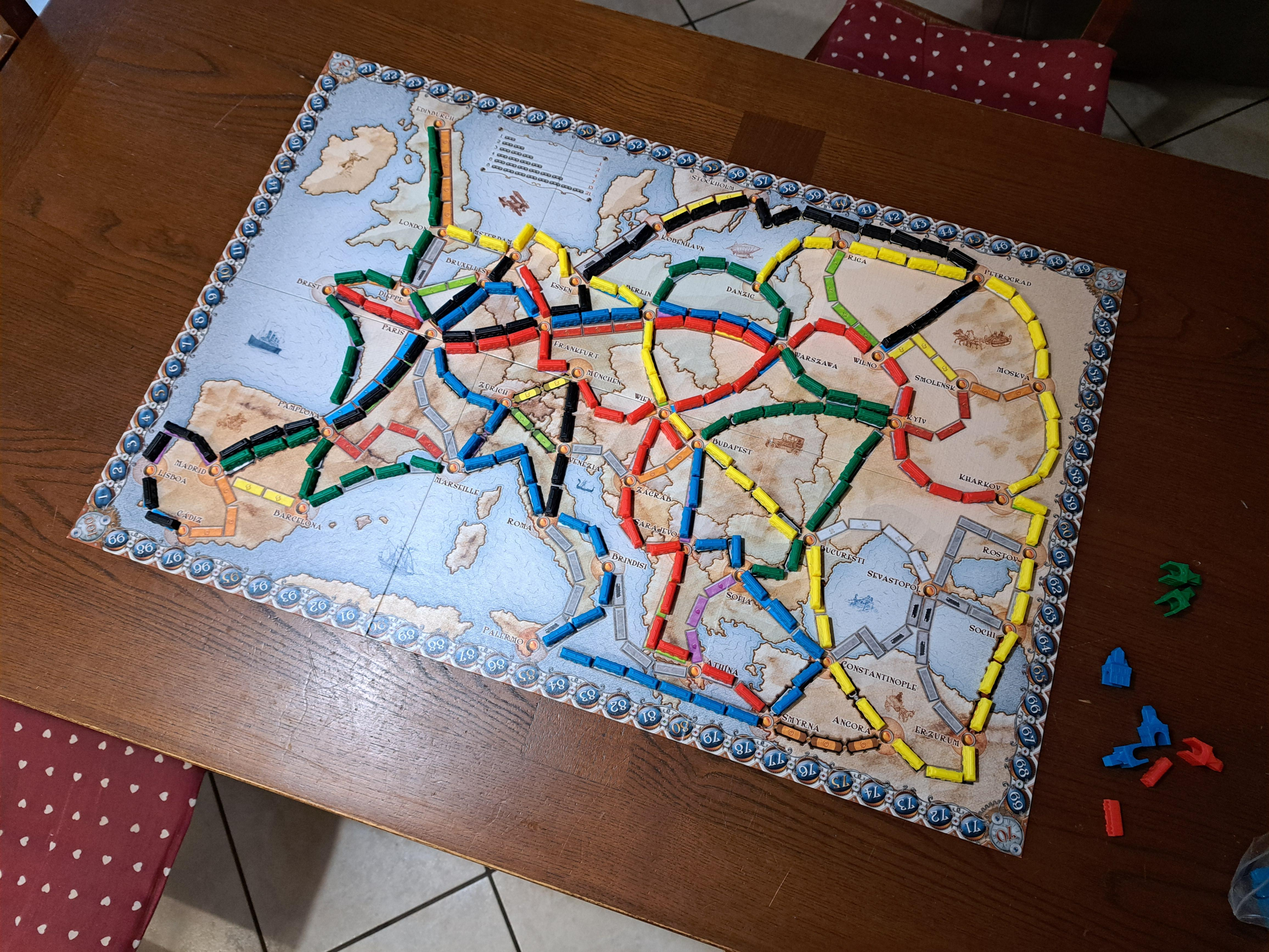corner_bl: (67, 506, 114, 547)
corner_br: (987, 813, 1027, 856)
corner_tl: (323, 51, 359, 79)
corner_tr: (1092, 264, 1127, 295)
